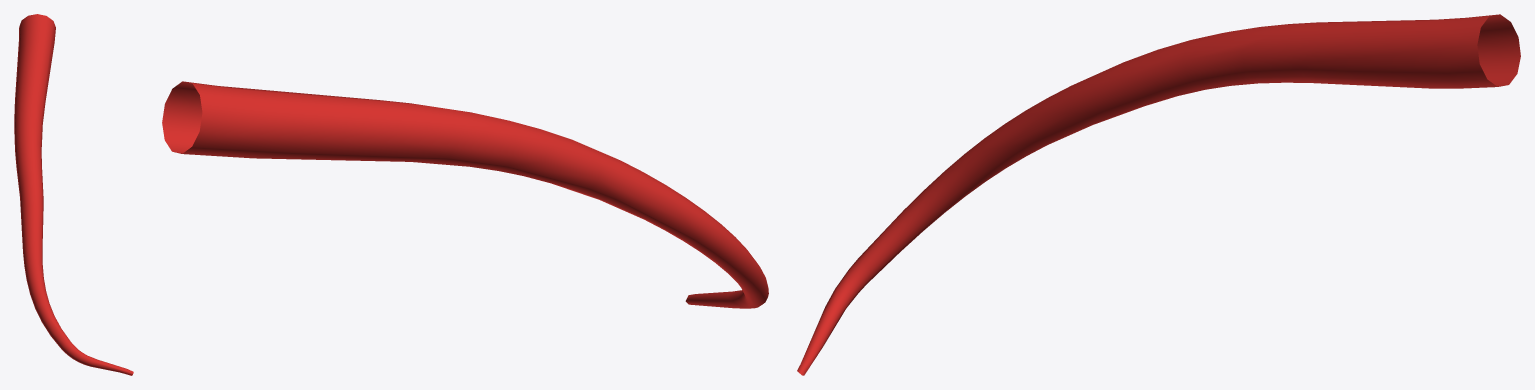
The model's file is circulatorio-gastroduodenal-artery.glb.
3 views of the same model, side by side, from view 1: azimuth 30°, elevation 25°; view 2: azimuth 150°, elevation 25°; view 3: azimuth 270°, elevation 25° (orthographic). The views are drawn at different scales.
Visible parts, largest first — view 1: Gastroduodenal artery; view 2: Gastroduodenal artery; view 3: Gastroduodenal artery.
Boxes of the visible parts, x1,y1,x2,y2 form: Gastroduodenal artery: (14, 14, 133, 375); Gastroduodenal artery: (162, 81, 768, 308); Gastroduodenal artery: (797, 14, 1520, 375).
Size of the model in its own units: 0.0147 by 0.0195 by 0.0294.
